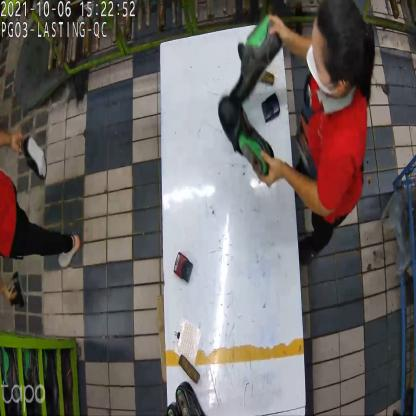shoes: (219, 11, 282, 184)
stamp: (173, 250, 195, 284), (261, 94, 280, 125)
